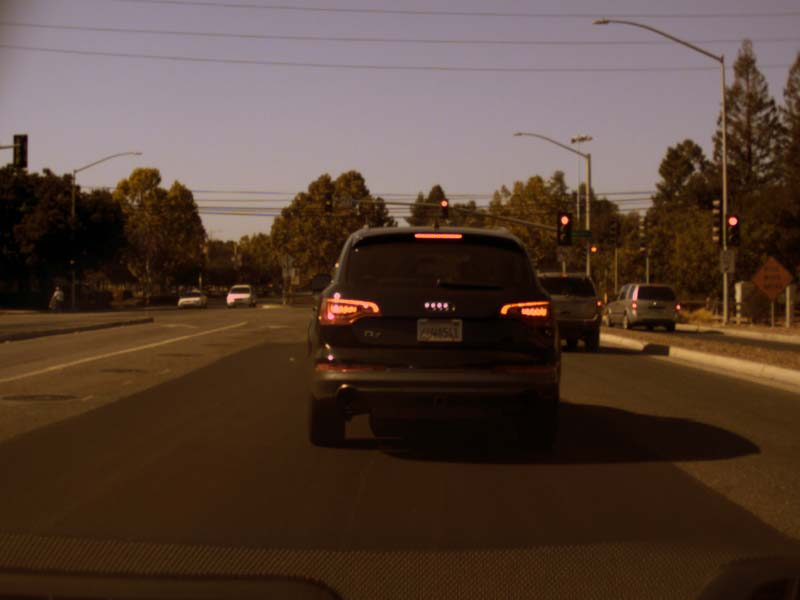Red: (726, 214, 740, 244), (558, 211, 570, 245), (441, 199, 448, 220), (590, 246, 596, 252)
Yellow: (323, 191, 333, 211), (69, 250, 75, 271)
